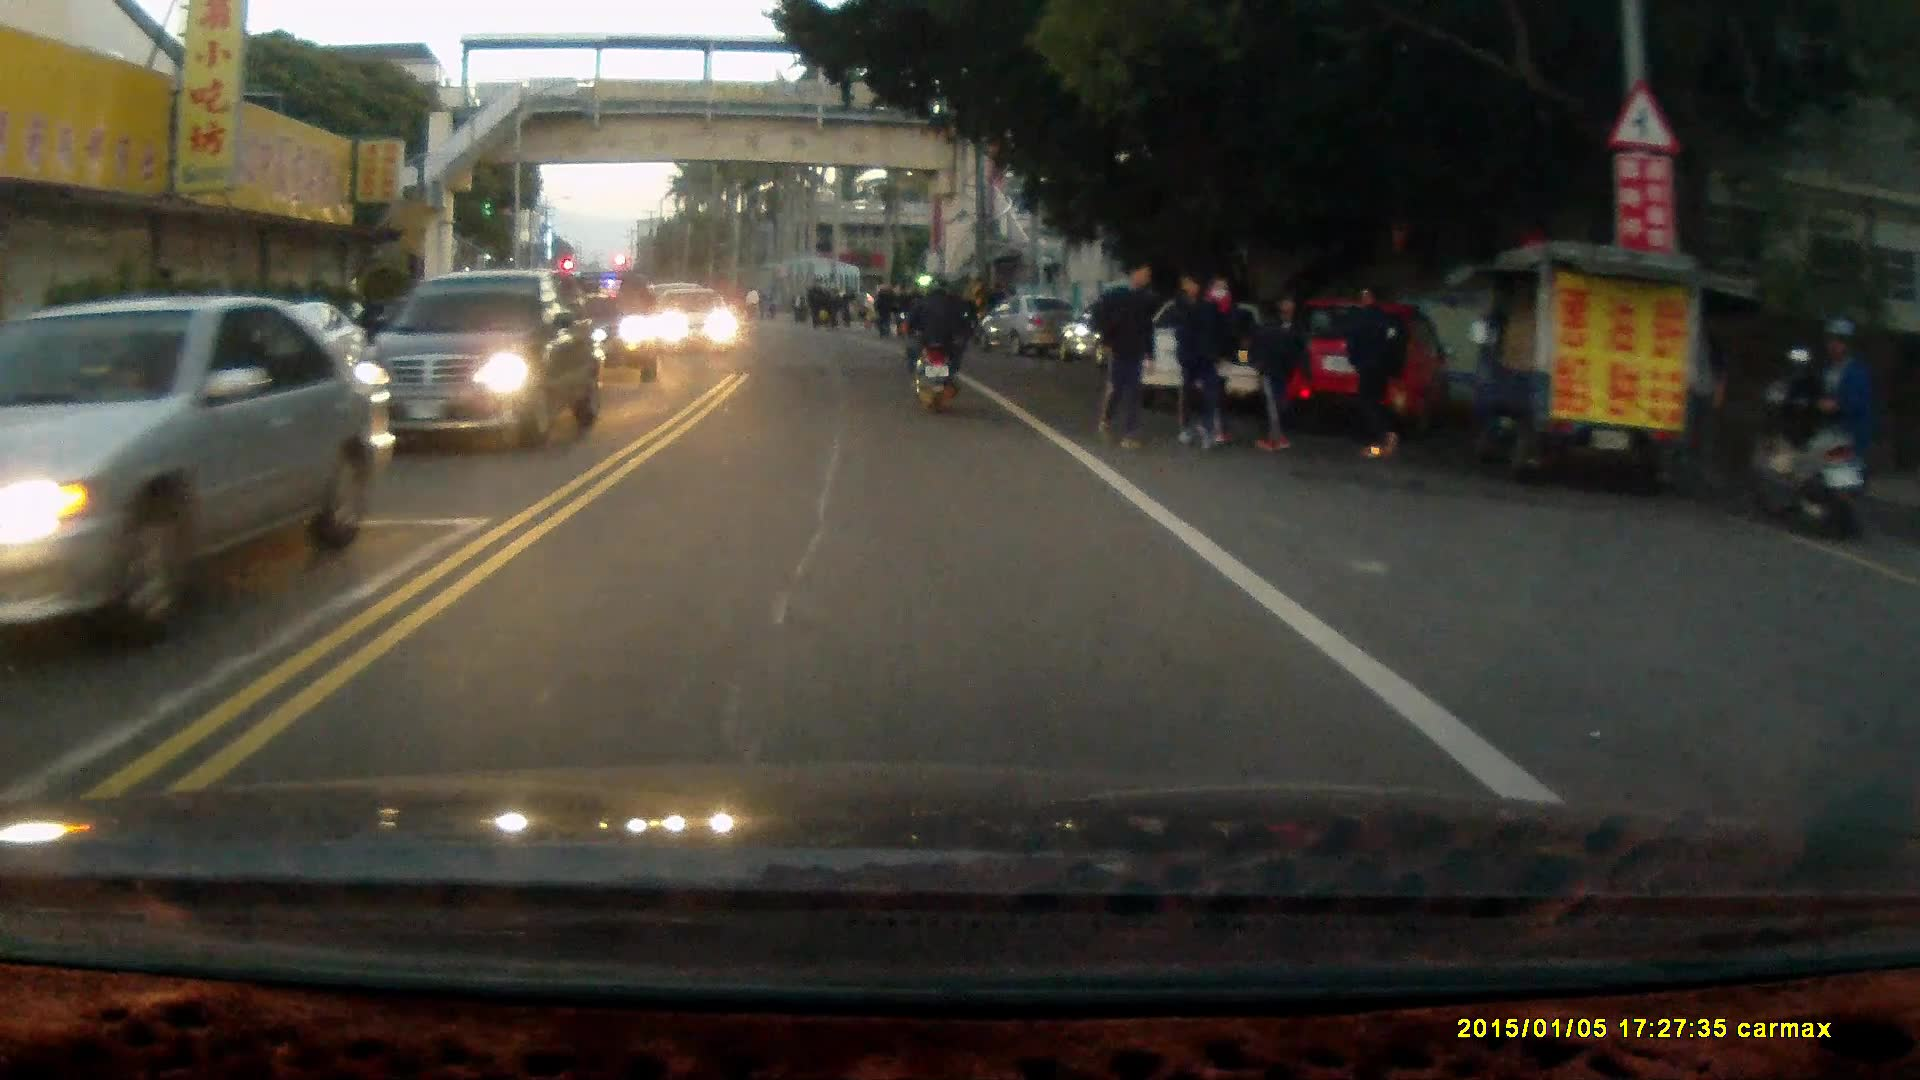pedestrian: (1089, 249, 1162, 450), (1814, 307, 1879, 513), (1340, 277, 1409, 461), (1246, 285, 1315, 453), (1170, 263, 1230, 450), (1196, 271, 1257, 448)
rider: (896, 273, 968, 417)
vehicle: (4, 294, 370, 675), (364, 267, 603, 448), (1257, 294, 1449, 437), (1134, 294, 1332, 428), (535, 271, 663, 387), (659, 288, 747, 357), (982, 295, 1078, 358)
